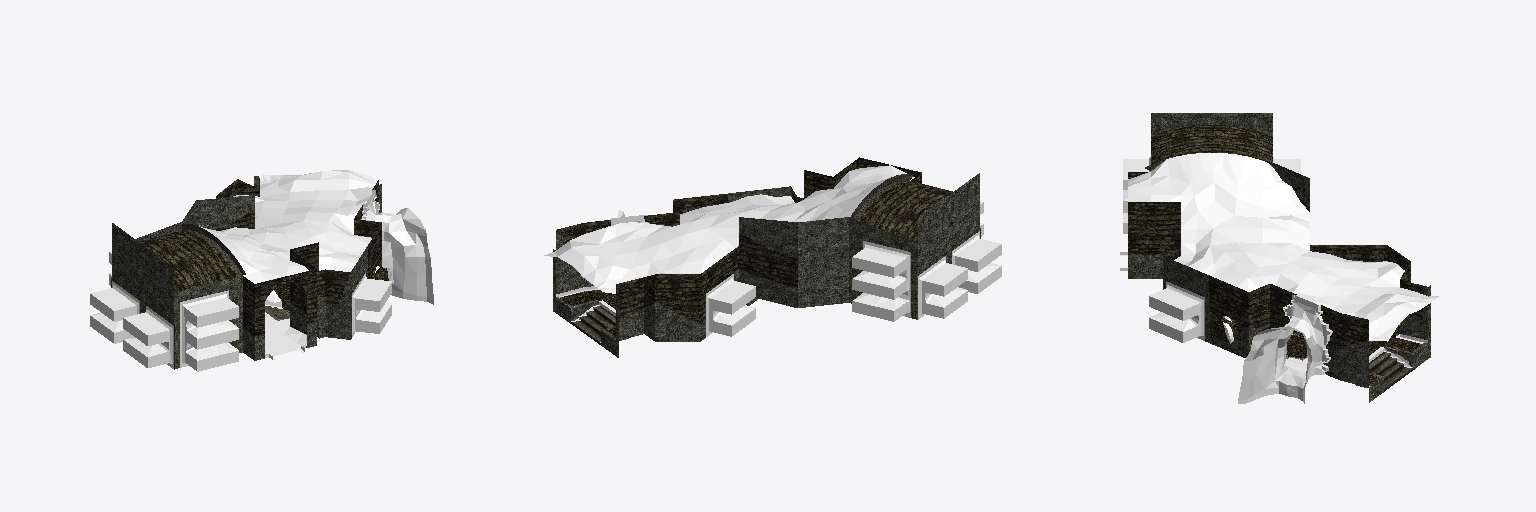
3 renders of one model, left to right at view 1: azimuth 30°, elevation 25°; view 2: azimuth 150°, elevation 25°; view 3: azimuth 270°, elevation 25°, orthographic.
Visible parts, largest first — view 1: mesh5, mesh14, mesh2, mesh3; view 2: mesh5, mesh14, mesh2, mesh10, mesh1, mesh3, mesh0; view 3: mesh5, mesh2, mesh14, mesh4, mesh0, mesh10, mesh1, mesh6.
Part boxes in pixels (x1,y1,x2,y2): mesh5: (90, 170, 433, 371); mesh14: (112, 195, 381, 368); mesh2: (138, 179, 381, 336); mesh3: (178, 224, 245, 276); mesh5: (544, 165, 1001, 336); mesh14: (556, 173, 979, 354); mesh2: (557, 157, 952, 323); mesh10: (553, 228, 980, 357); mesh1: (571, 306, 615, 344); mesh3: (846, 174, 912, 225); mesh0: (560, 290, 615, 336); mesh5: (1123, 153, 1438, 403); mesh2: (1128, 125, 1422, 356); mesh14: (1128, 113, 1426, 400); mesh4: (1279, 295, 1332, 397); mesh0: (1286, 330, 1421, 384); mesh10: (1369, 285, 1430, 402); mesh1: (1369, 352, 1412, 391); mesh6: (1265, 351, 1305, 401).
Bounding box in the file's own units: 16.32 × 6.54 × 13.23.
16 materials, 6 textured.